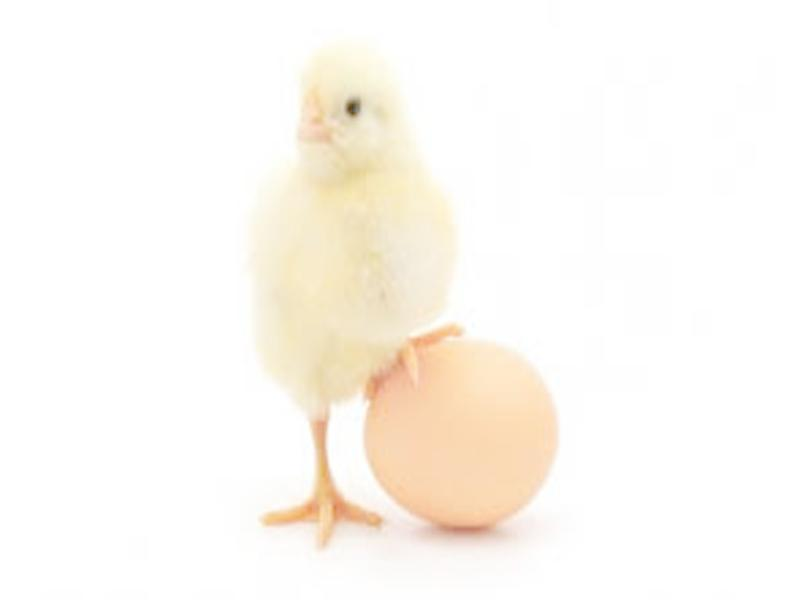Eggs: (360, 330, 560, 526)
